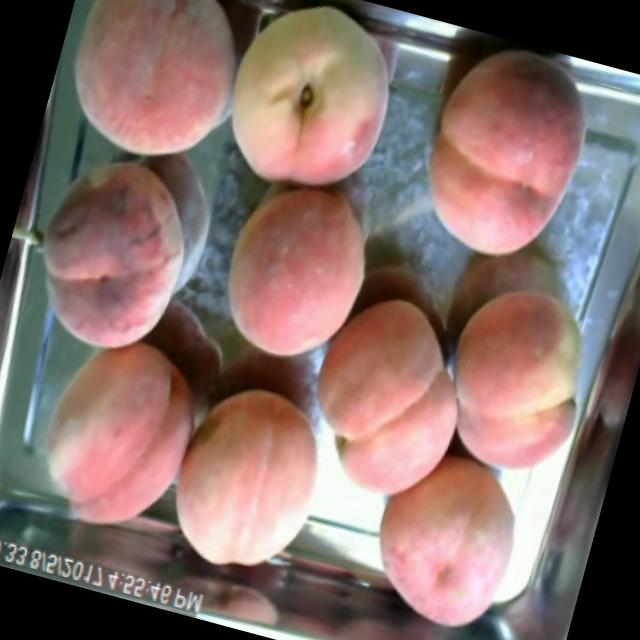Fruit: (2, 119, 228, 378), (395, 27, 615, 284), (284, 270, 498, 521), (206, 0, 427, 224), (148, 362, 356, 600), (408, 260, 614, 500), (192, 147, 402, 382), (18, 316, 218, 548), (34, 0, 267, 195), (346, 429, 554, 640)
